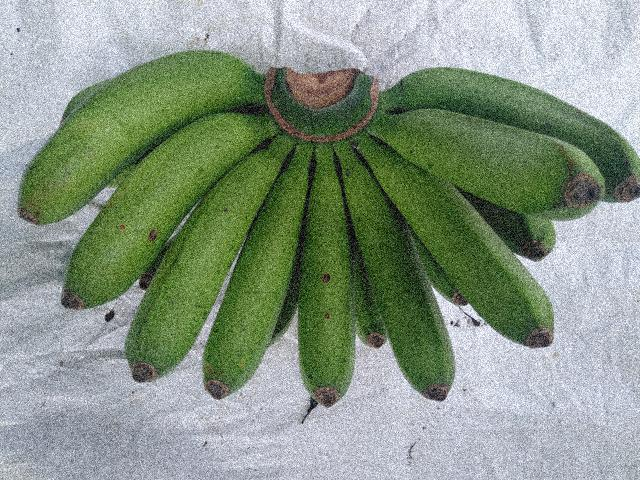unripe: (15, 44, 252, 227), (199, 169, 306, 414), (392, 104, 597, 222), (295, 141, 359, 422)
